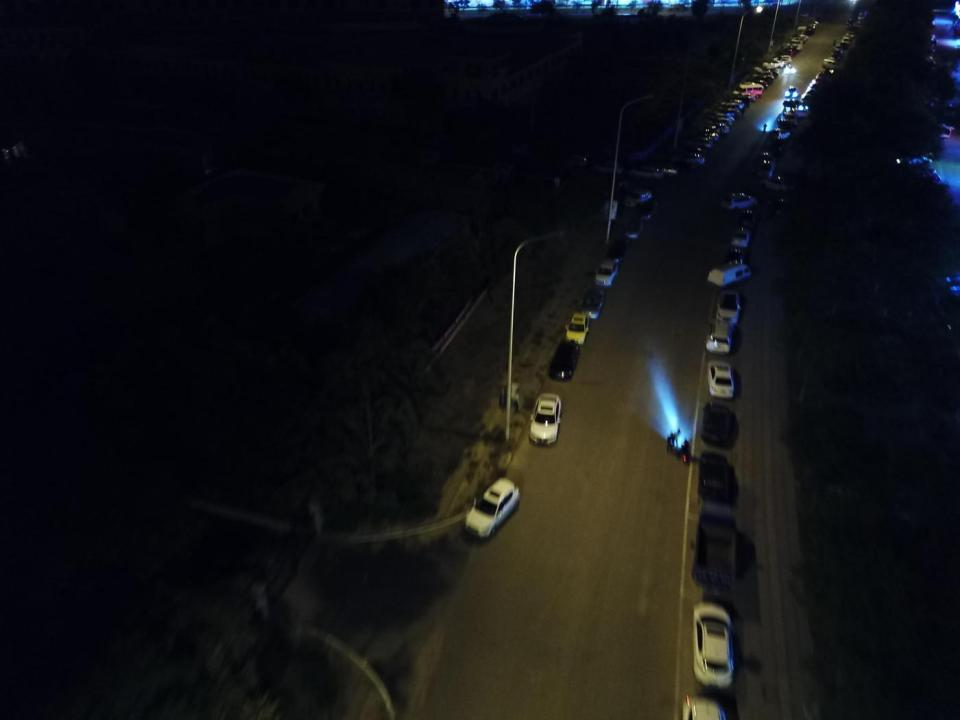car: (693, 598, 738, 689), (465, 477, 520, 541), (700, 449, 738, 504), (530, 391, 562, 446), (700, 400, 735, 443), (548, 342, 580, 381), (704, 360, 734, 398), (706, 317, 734, 354), (714, 290, 742, 325), (768, 193, 799, 223), (580, 286, 605, 320), (565, 311, 589, 345), (719, 192, 759, 211), (759, 176, 796, 195), (594, 258, 618, 286), (624, 186, 654, 207), (725, 244, 749, 270), (627, 166, 664, 181), (608, 237, 630, 262), (738, 206, 762, 228), (647, 161, 679, 177), (780, 97, 810, 114), (556, 152, 587, 168), (711, 106, 742, 121), (732, 226, 752, 249), (625, 214, 644, 238), (674, 153, 706, 167), (756, 159, 778, 179), (699, 120, 730, 134), (593, 160, 623, 174), (636, 200, 658, 219), (769, 137, 788, 159), (662, 161, 691, 175), (683, 136, 714, 149), (756, 148, 777, 167), (778, 110, 799, 129), (670, 158, 700, 171), (706, 111, 735, 124), (785, 106, 810, 121), (821, 56, 844, 72), (682, 143, 708, 157), (690, 131, 720, 143), (768, 126, 792, 141), (724, 95, 751, 108), (761, 56, 785, 70), (695, 125, 720, 138), (704, 115, 733, 126), (720, 97, 745, 109), (752, 69, 774, 81), (769, 53, 792, 64), (776, 118, 794, 132), (784, 38, 804, 50), (783, 85, 800, 99), (755, 68, 778, 78), (756, 65, 779, 75), (780, 64, 796, 78), (809, 78, 826, 91), (752, 74, 774, 84), (732, 92, 756, 101), (740, 82, 764, 91), (800, 92, 813, 108), (745, 79, 768, 88), (812, 72, 832, 82), (780, 46, 798, 57), (771, 58, 793, 66), (831, 49, 844, 61), (804, 85, 817, 96), (792, 33, 808, 41), (792, 36, 807, 44), (839, 40, 849, 52), (856, 10, 868, 20), (768, 2, 782, 10), (841, 35, 852, 45), (804, 26, 814, 36), (835, 43, 846, 52), (852, 21, 865, 28), (844, 31, 856, 38), (846, 18, 854, 27), (799, 10, 809, 17), (808, 22, 816, 28), (816, 15, 824, 21)
truck: (692, 496, 743, 592), (668, 3, 686, 9)
van: (706, 262, 753, 289), (734, 83, 762, 98), (716, 101, 740, 114)
